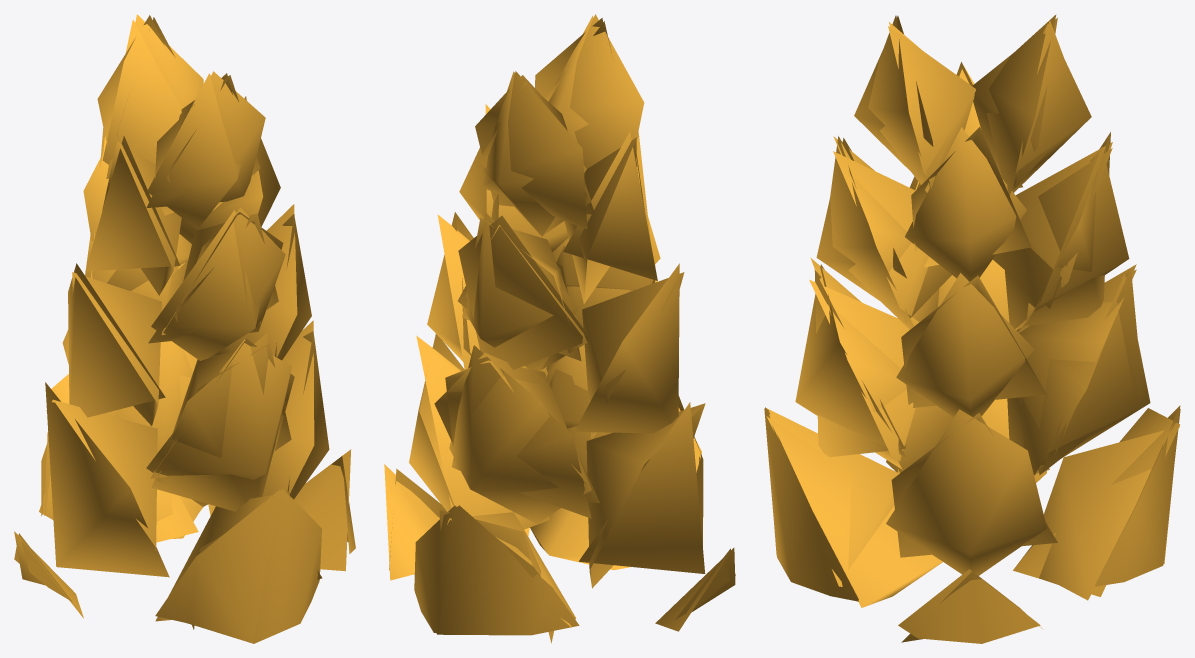
Rendered from Wheat top.fbx.
3 renders of one model, left to right at view 1: azimuth 30°, elevation 25°; view 2: azimuth 150°, elevation 25°; view 3: azimuth 270°, elevation 25°, orthographic. The views are drawn at different scales.
Visible parts, largest first — view 1: Cylinder.001; view 2: Cylinder.001; view 3: Cylinder.001.
Boxes of the visible parts, <box> form: Cylinder.001: <box>14,14,355,643</box>; Cylinder.001: <box>384,14,735,643</box>; Cylinder.001: <box>764,14,1180,643</box>.
Size of the model in its own units: 10.86 by 16.72 by 11.09.
